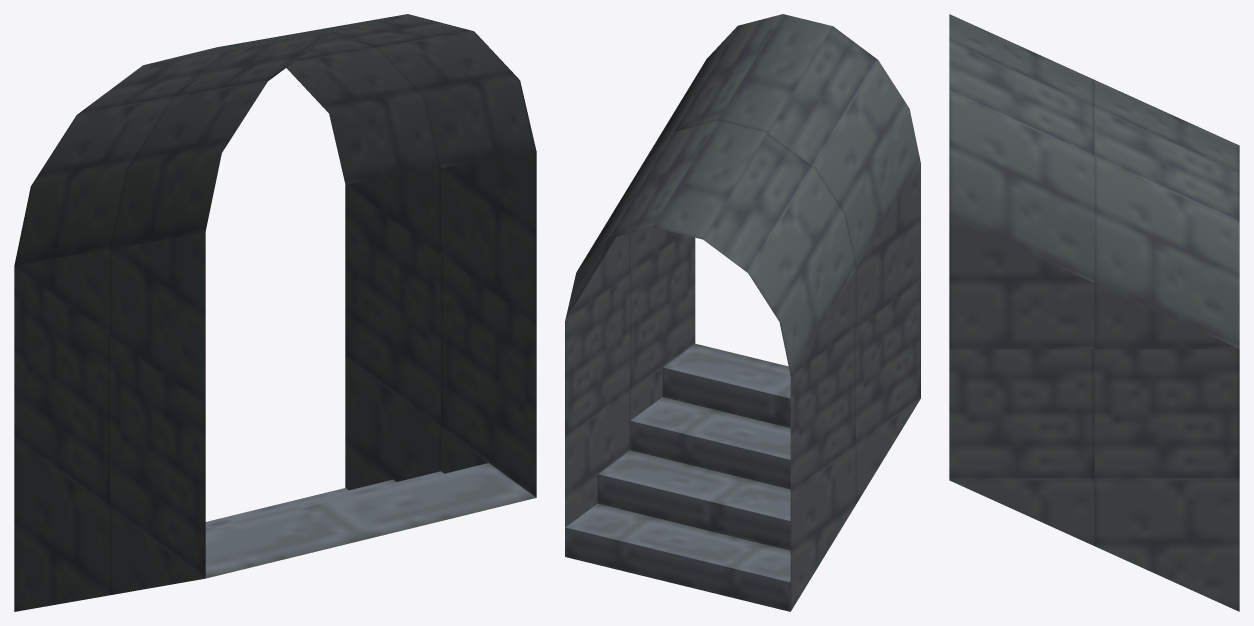
File: arch_inside_medium_stairs_down.fbx
3 views of the same model, side by side, from view 1: azimuth 30°, elevation 25°; view 2: azimuth 150°, elevation 25°; view 3: azimuth 270°, elevation 25° (orthographic). The views are drawn at different scales.
Visible parts, largest first — view 1: arch_inside_medium_stairs_down; view 2: arch_inside_medium_stairs_down; view 3: arch_inside_medium_stairs_down.
Boxes of the visible parts, box(x1,y1,x2,y2) form: arch_inside_medium_stairs_down: box(14, 14, 536, 611); arch_inside_medium_stairs_down: box(565, 14, 920, 611); arch_inside_medium_stairs_down: box(949, 14, 1239, 611).
Size of the model in its own units: 32 by 63.6 by 32.
